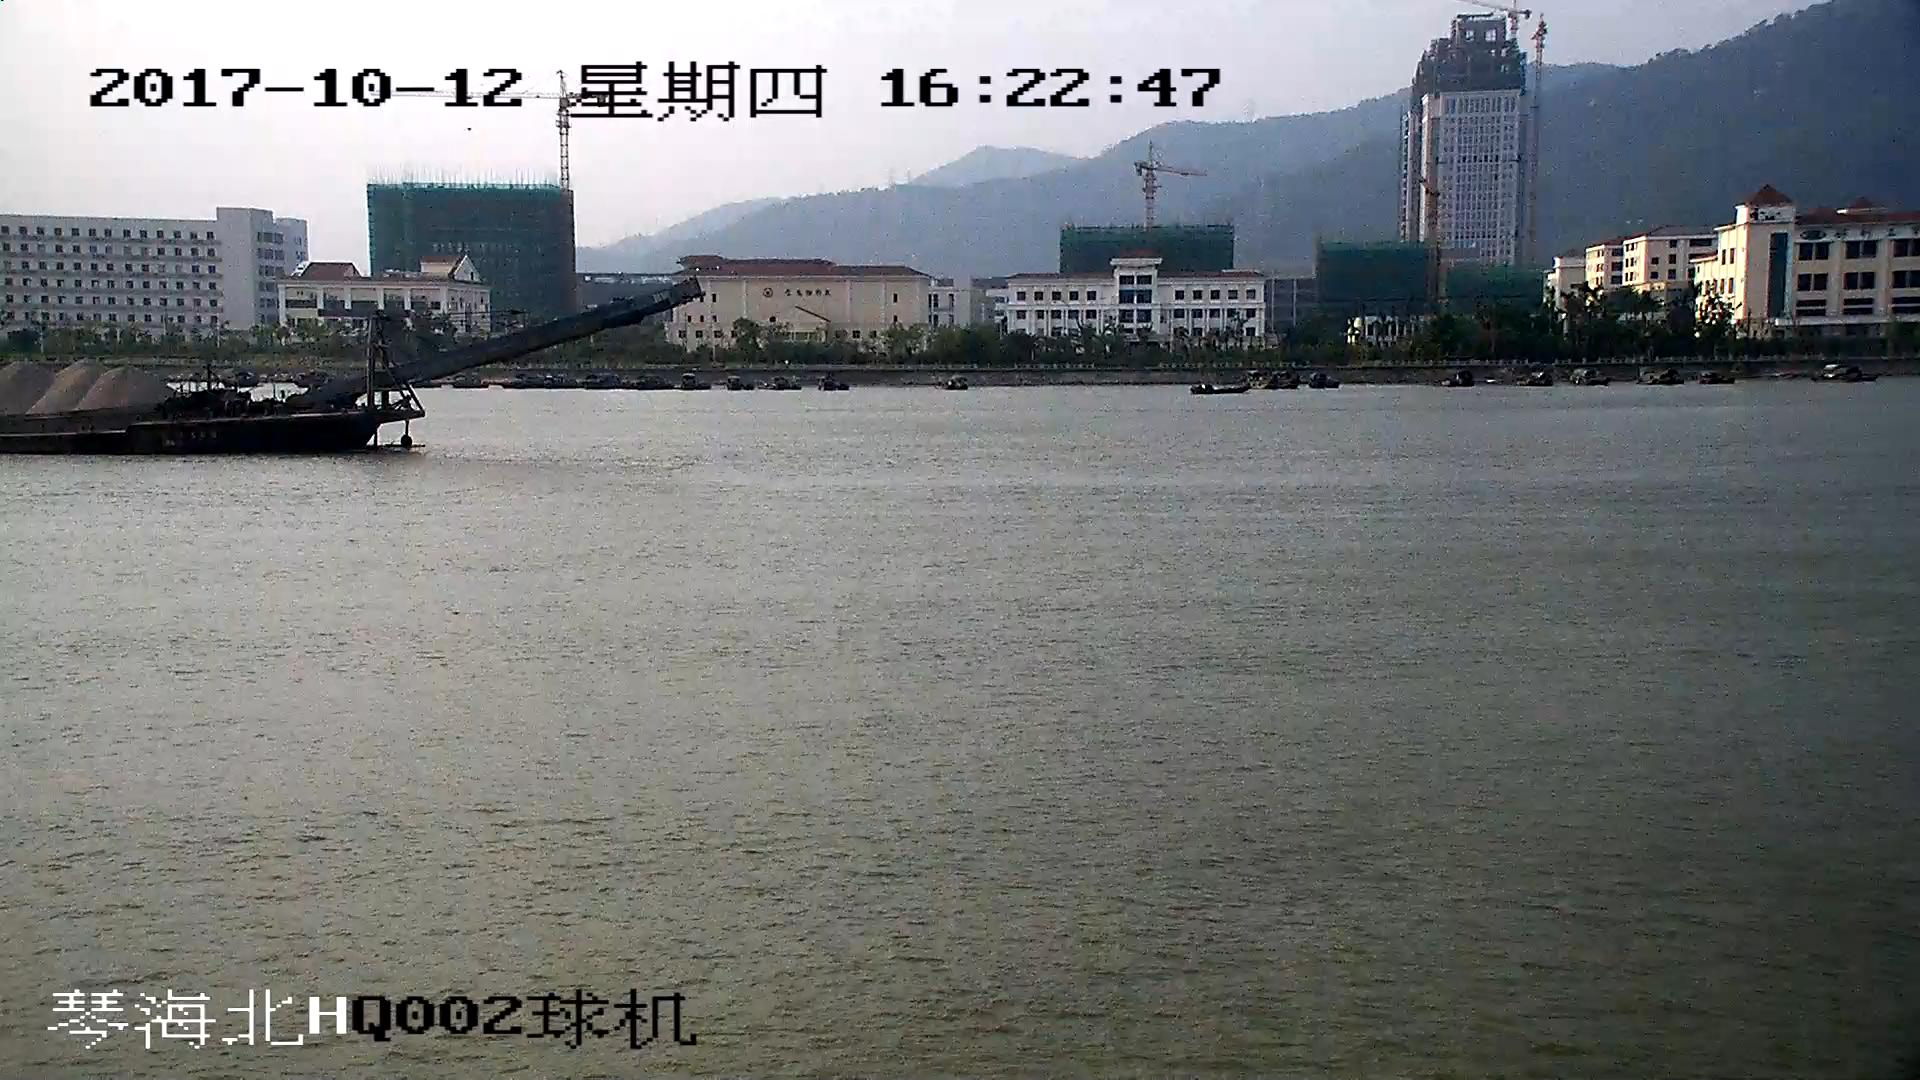ore carrier: (1, 279, 691, 455)
